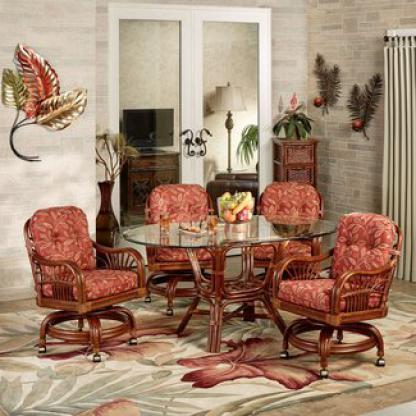chair: (26, 206, 146, 363), (281, 209, 401, 364), (146, 183, 213, 303), (243, 182, 323, 277)
door: (115, 7, 192, 227), (191, 7, 264, 185)
table: (121, 212, 344, 364), (125, 157, 178, 206), (274, 135, 317, 182)
